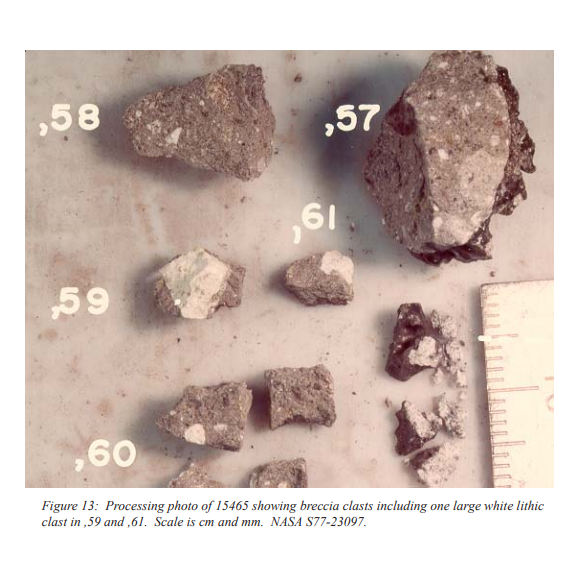Breccia: (125, 40, 468, 484), (379, 40, 514, 249)
